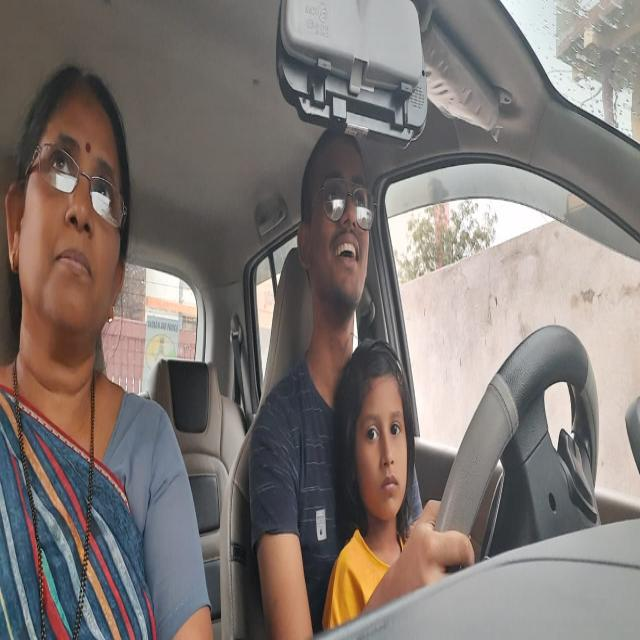child: (331, 337, 427, 528)
person: (7, 39, 131, 390), (291, 107, 383, 328)
